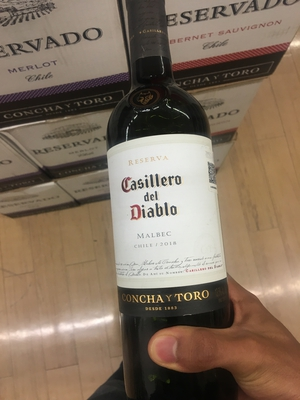casillero del diablo malbec: (95, 3, 241, 400)
